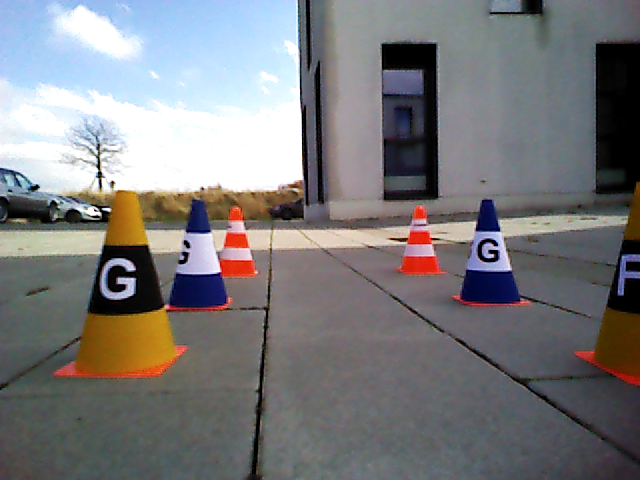bluecone: (458, 199, 521, 305), (170, 199, 226, 309)
orangeconesmall: (399, 206, 441, 272), (219, 204, 257, 273)
yellowcone: (74, 190, 178, 374)
